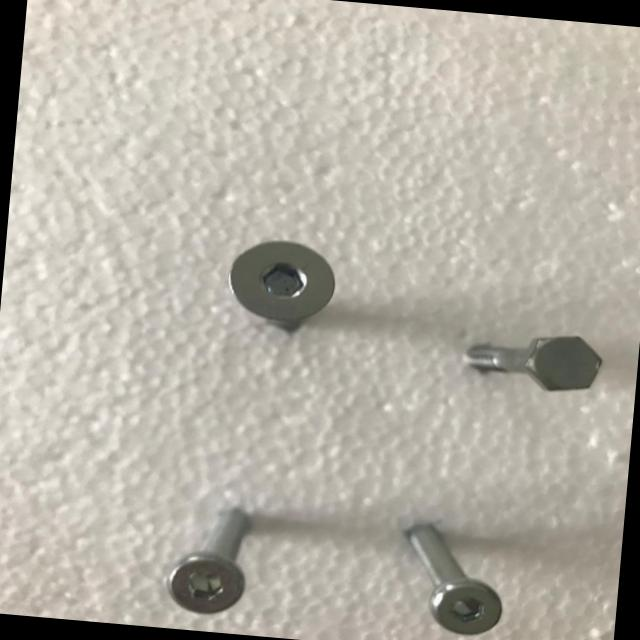Hex Socket Allen: (223, 235, 341, 326), (165, 550, 248, 617), (426, 578, 508, 640)
